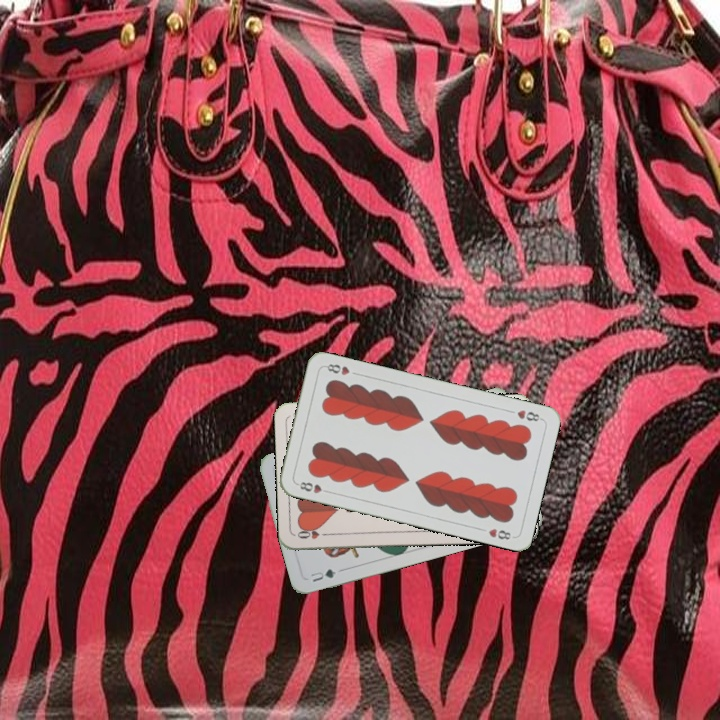GU: (306, 565, 339, 585)
H8: (293, 478, 333, 496), (513, 406, 545, 424)
HO: (293, 525, 333, 542)
